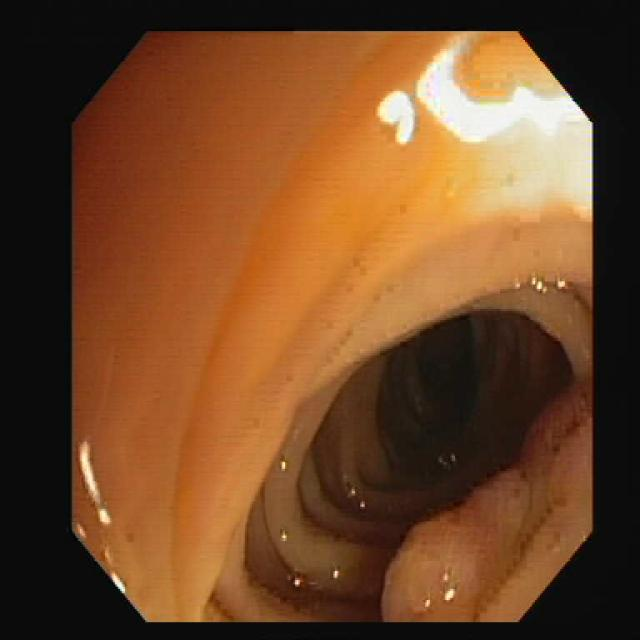tumor: (382, 473, 530, 620)
